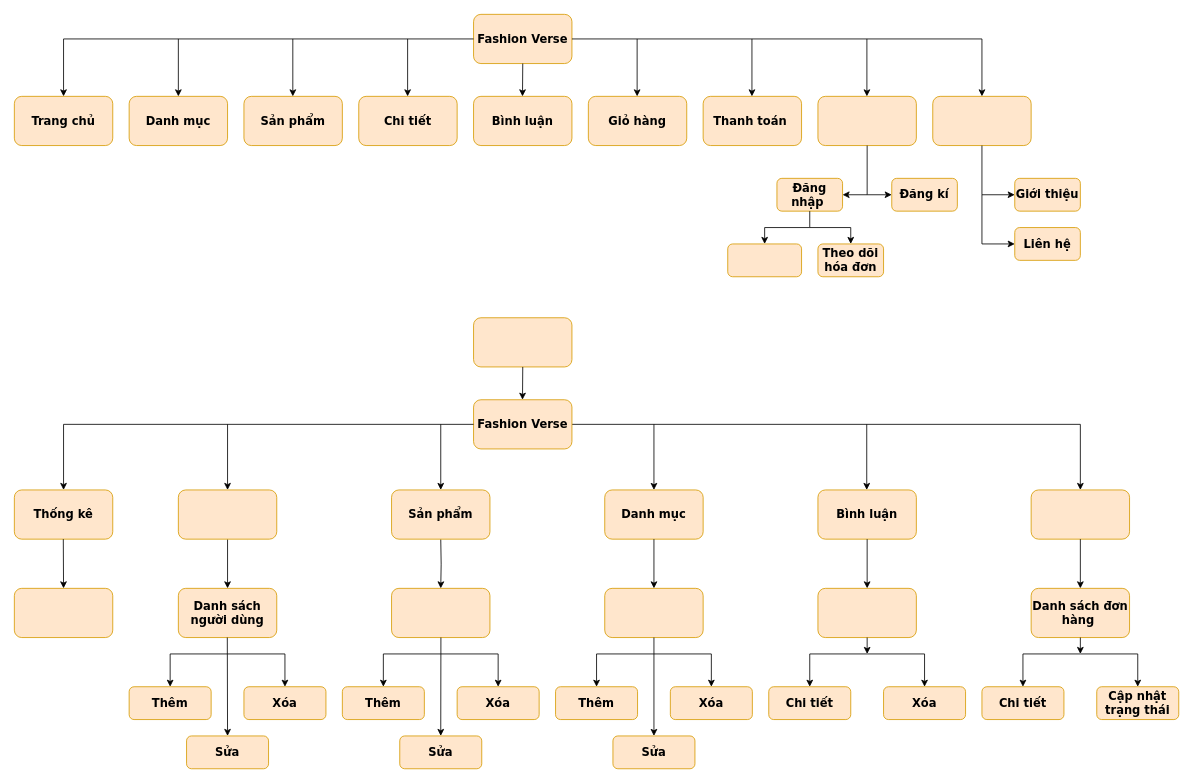
Some shapes in this 1193 by 783 pixel diagram are drawn without their labels. The shapes that lost their labels are listed below. From the top down, each one's centre as x and y in pixels, then its label:
(x=866, y=121): Tài khoản
(x=981, y=121): Trang khác
(x=764, y=260): Thông tin tài khoản
(x=522, y=342): Trang đăng nhập
(x=227, y=514): Người dùng
(x=1080, y=514): Đơn Hàng
(x=63, y=613): Thống kê doanh thu
(x=440, y=613): Danh sách sản phẩm
(x=653, y=613): Danh sách danh mục
(x=866, y=613): Danh sách bình luận
